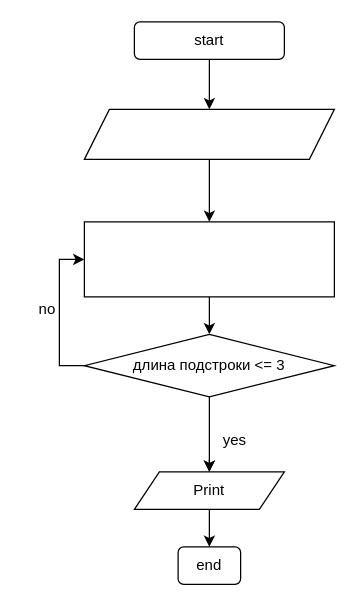
Some shapes in this 356 by 606 pixel diagram are drawn without their labels. Each missing label, with the box of its shape:
Ввод слов или чисел: (83, 108, 334, 159)
Разбивание на отдельные подстроки: (83, 221, 334, 297)
